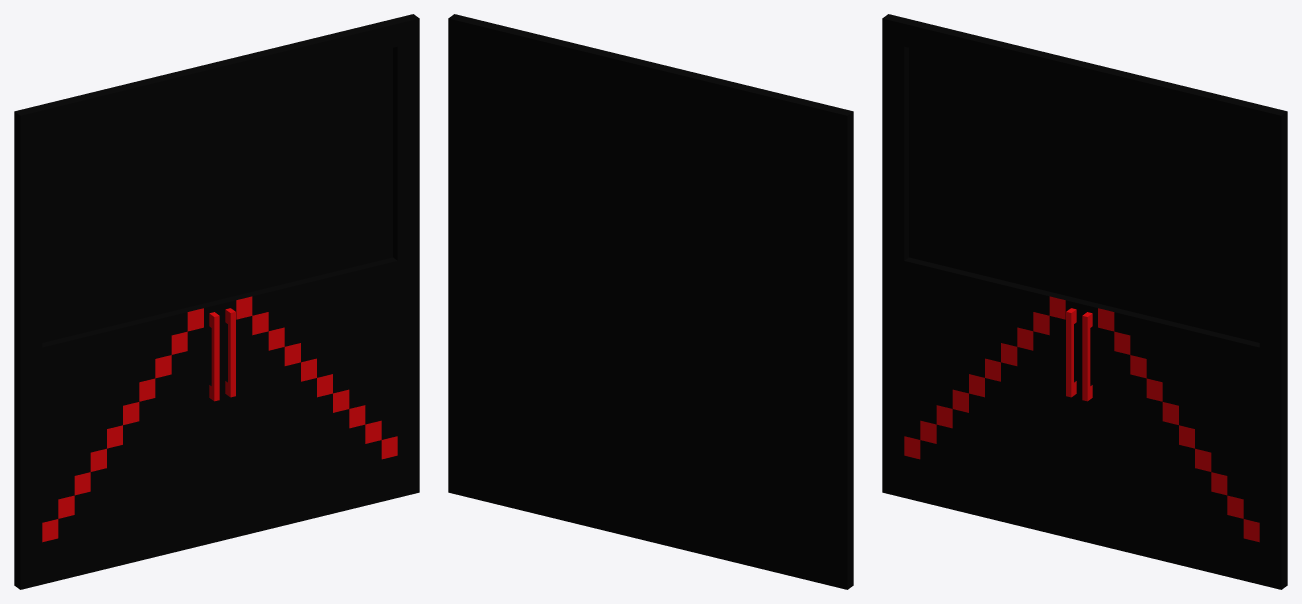
The model's file is kapı.fbx.
The picture shows the model from 3 angles, left to right: view 1: azimuth 30°, elevation 25°; view 2: azimuth 150°, elevation 25°; view 3: azimuth 330°, elevation 25°; orthographic projection.
Visible parts, largest first — view 1: Cube.010; view 2: Cube.010; view 3: Cube.010.
Part boxes in pixels (x1,y1,x2,y2): Cube.010: (14,14,419,589); Cube.010: (448,14,853,589); Cube.010: (882,14,1287,589).
Size of the model in its own units: 955 by 1084 by 46.29.
